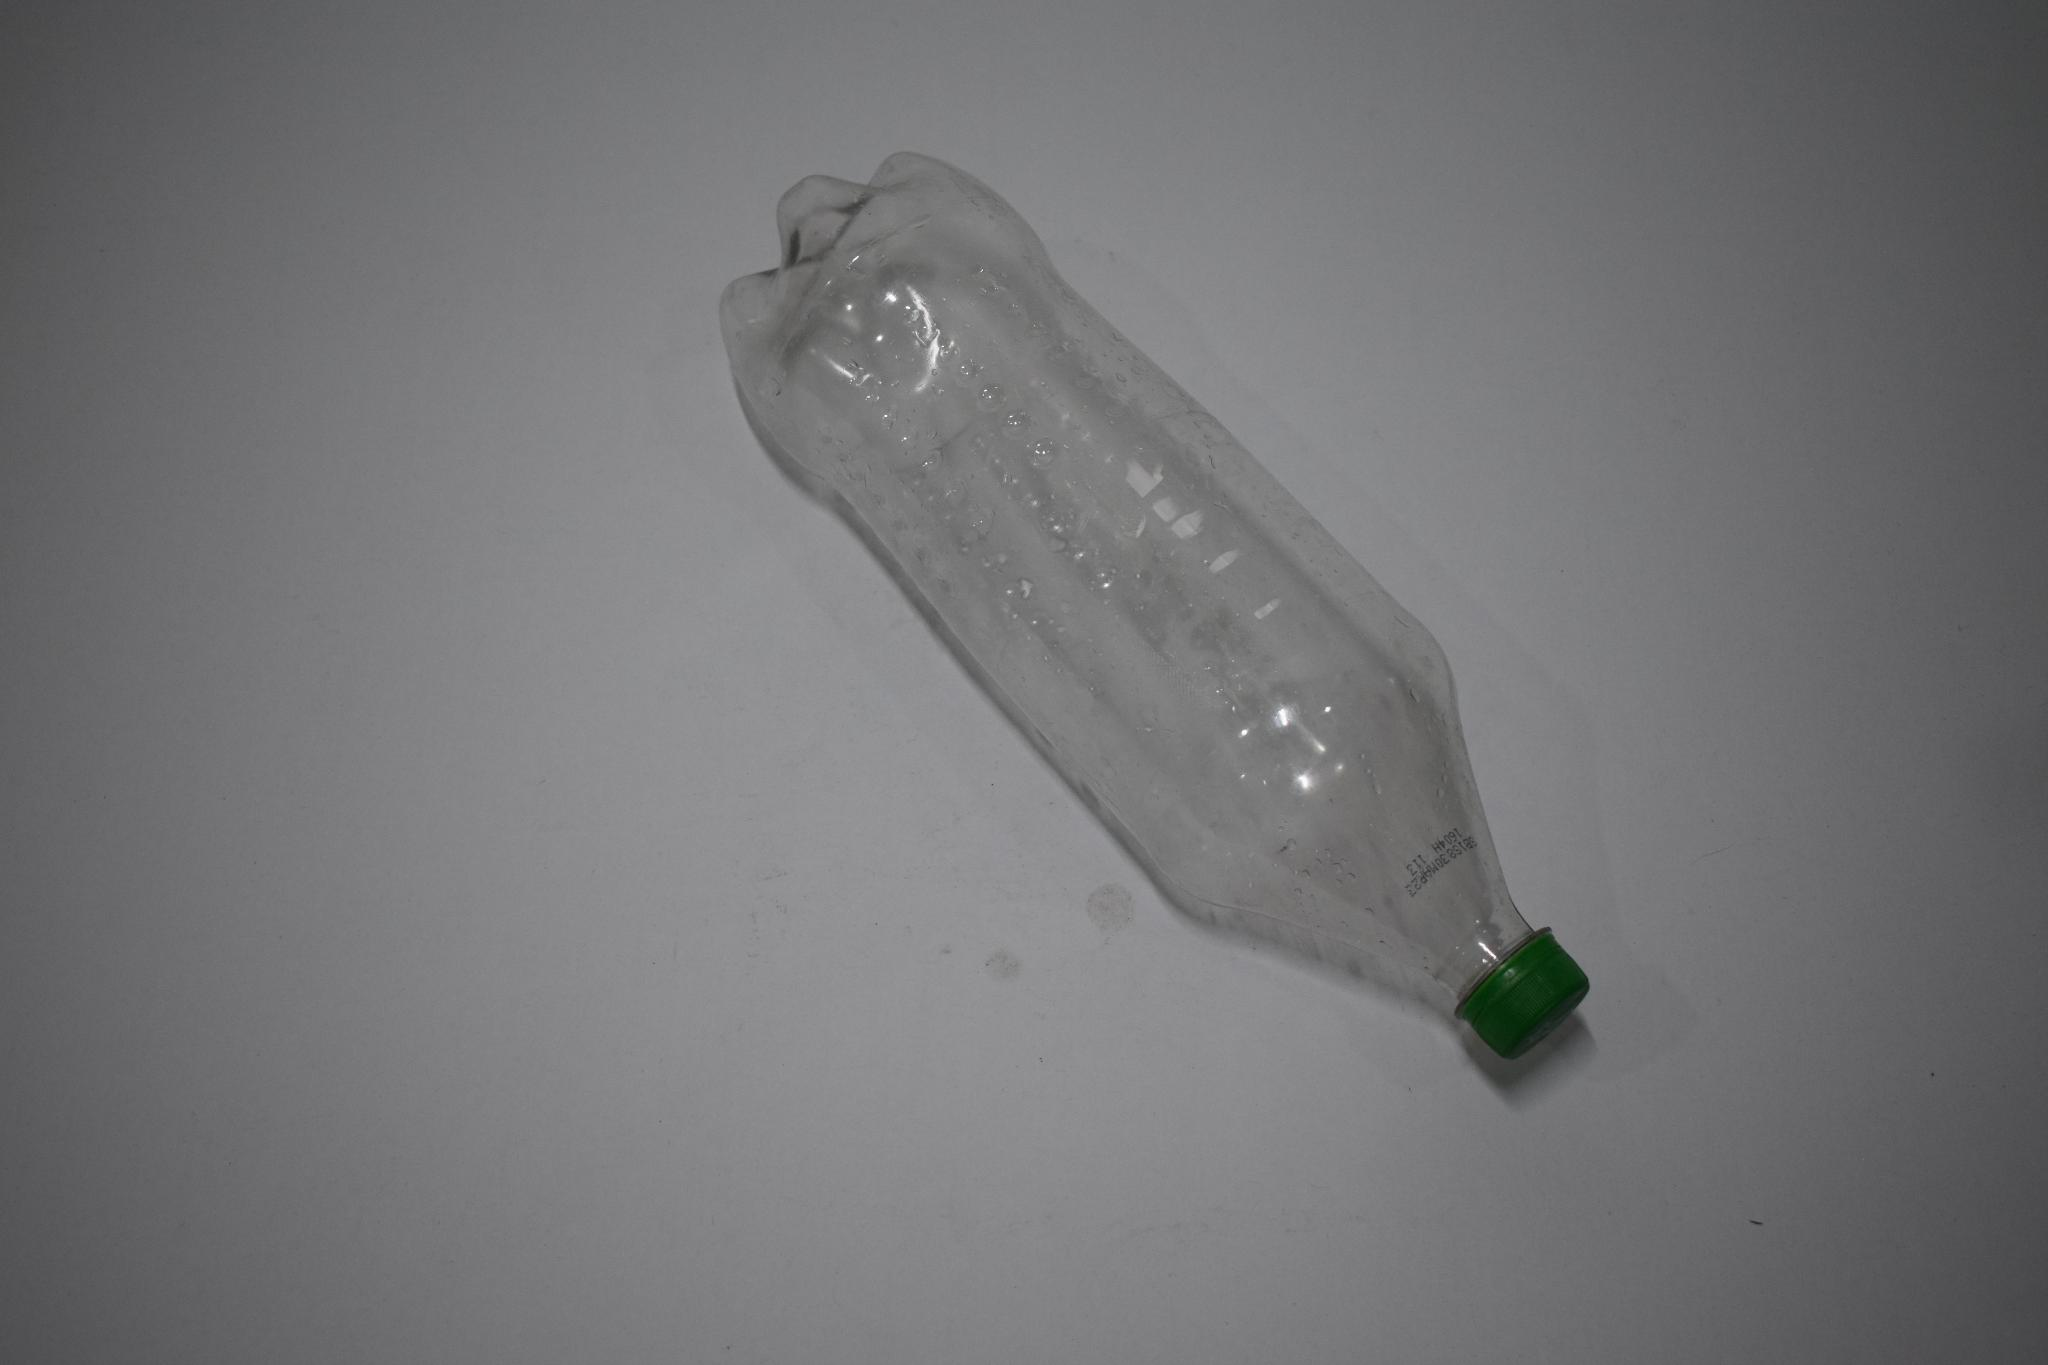bottle: (696, 137, 1684, 1103)
